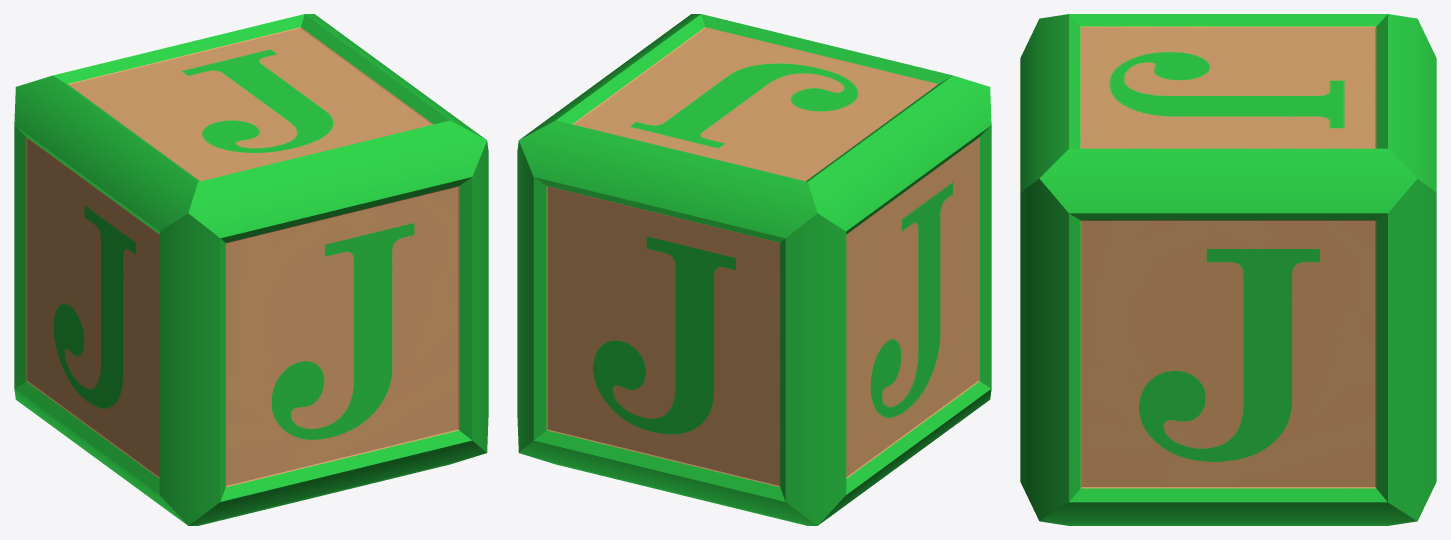
3 renders of one model, left to right at view 1: azimuth 30°, elevation 25°; view 2: azimuth 150°, elevation 25°; view 3: azimuth 270°, elevation 25°, orthographic. The views are drawn at different scales.
Visible parts, largest first — view 1: pCube1; view 2: pCube1; view 3: pCube1.
Part boxes in pixels (left/top/right/bottom): pCube1: left=14, top=14, right=488, bottom=525; pCube1: left=517, top=14, right=991, bottom=525; pCube1: left=1020, top=14, right=1436, bottom=525.
Size of the model in its own units: 0.4114 by 0.4114 by 0.4114.
1 material, 1 textured.
